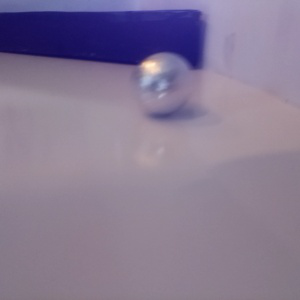zone: (1, 9, 202, 71)
